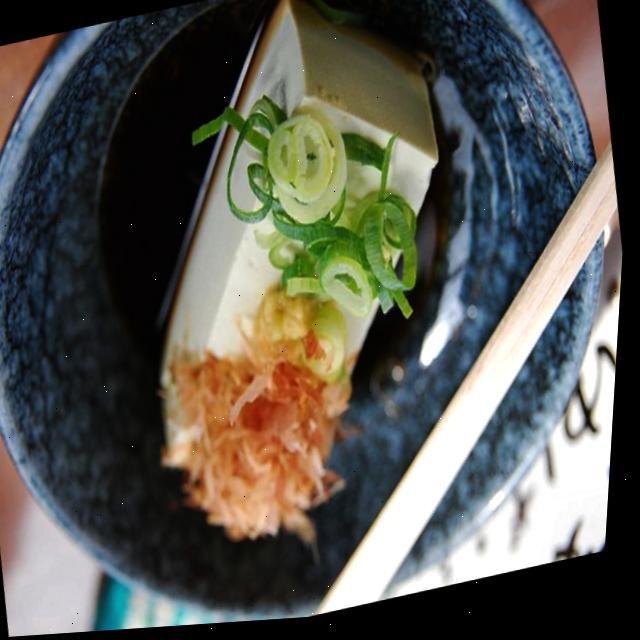豆腐料理: (77, 0, 523, 568)
